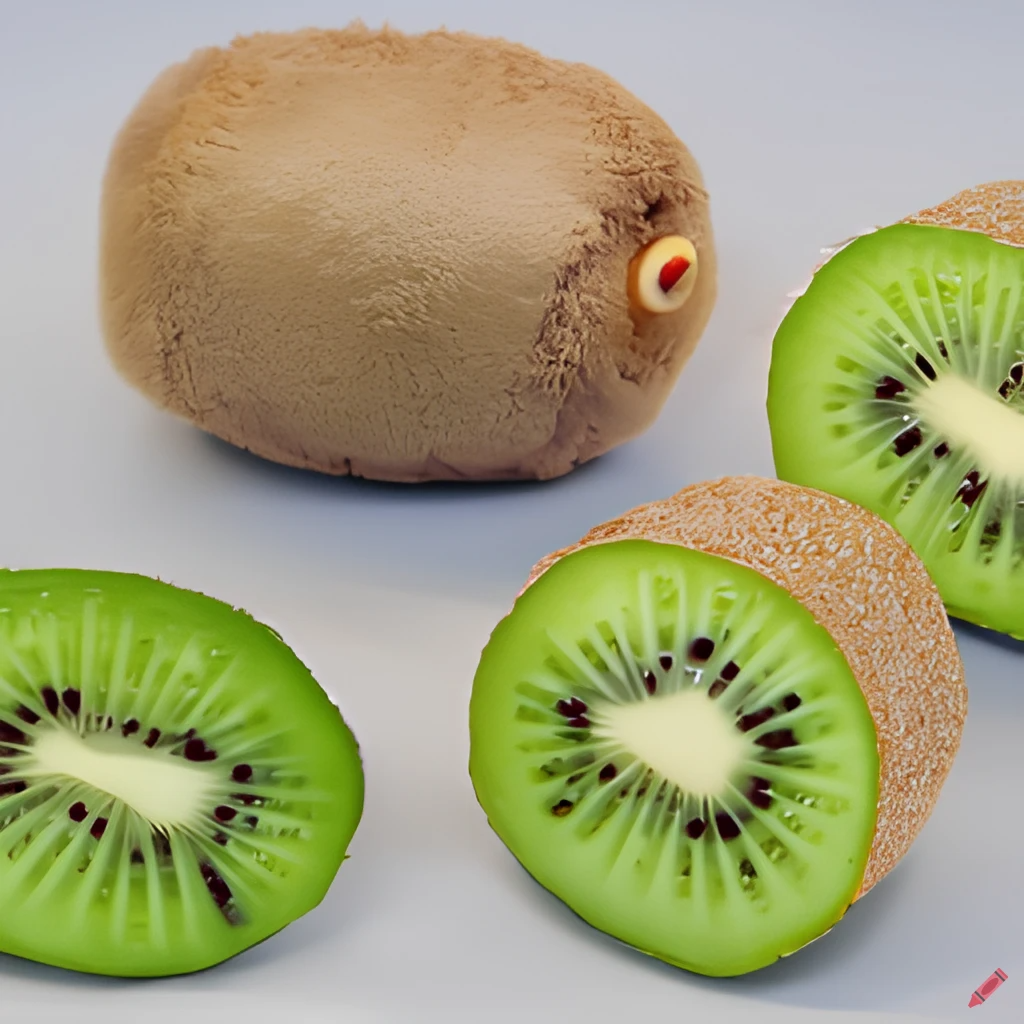Kiwi: (452, 459, 966, 974)
